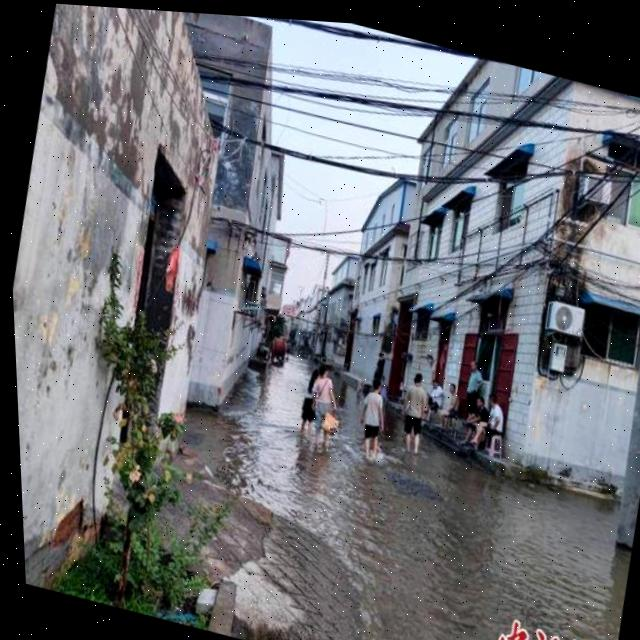civilian: (393, 365, 442, 459), (300, 355, 350, 447), (352, 373, 395, 459), (290, 364, 331, 448), (468, 389, 513, 461), (451, 357, 492, 433), (418, 366, 452, 425), (461, 395, 494, 455), (436, 377, 467, 434)
